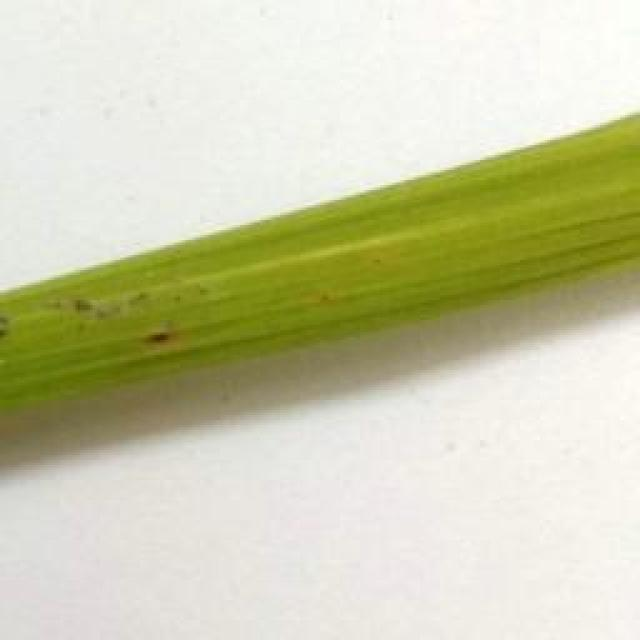Brown_Spot: (133, 321, 180, 353), (65, 289, 95, 319)
